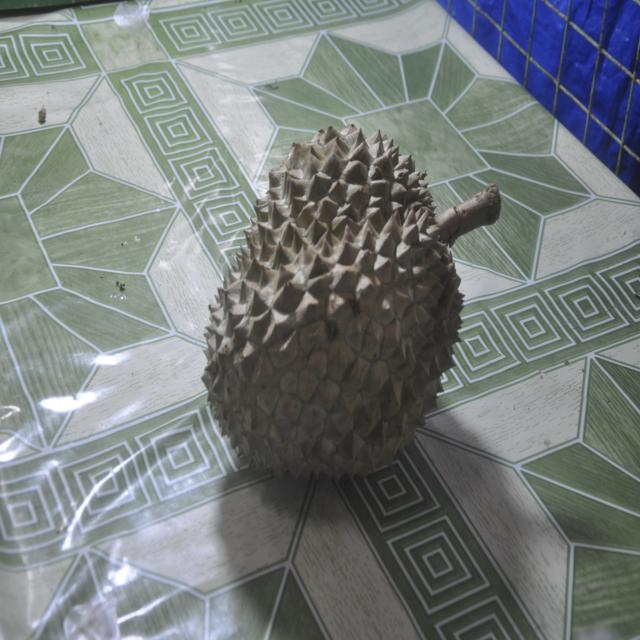mature: (203, 125, 500, 477)
